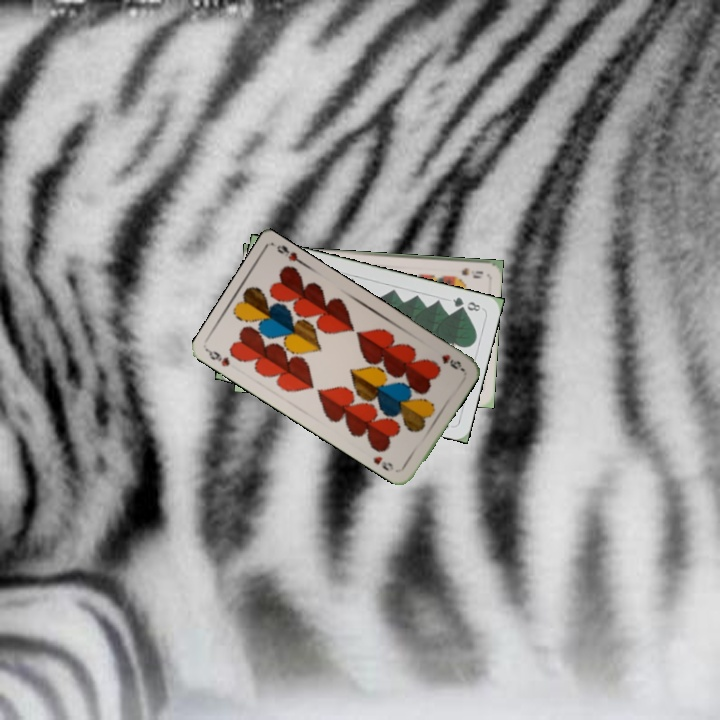G8: (448, 293, 483, 314)
H9: (437, 350, 465, 373), (204, 346, 232, 369)
S9: (457, 264, 486, 281)
